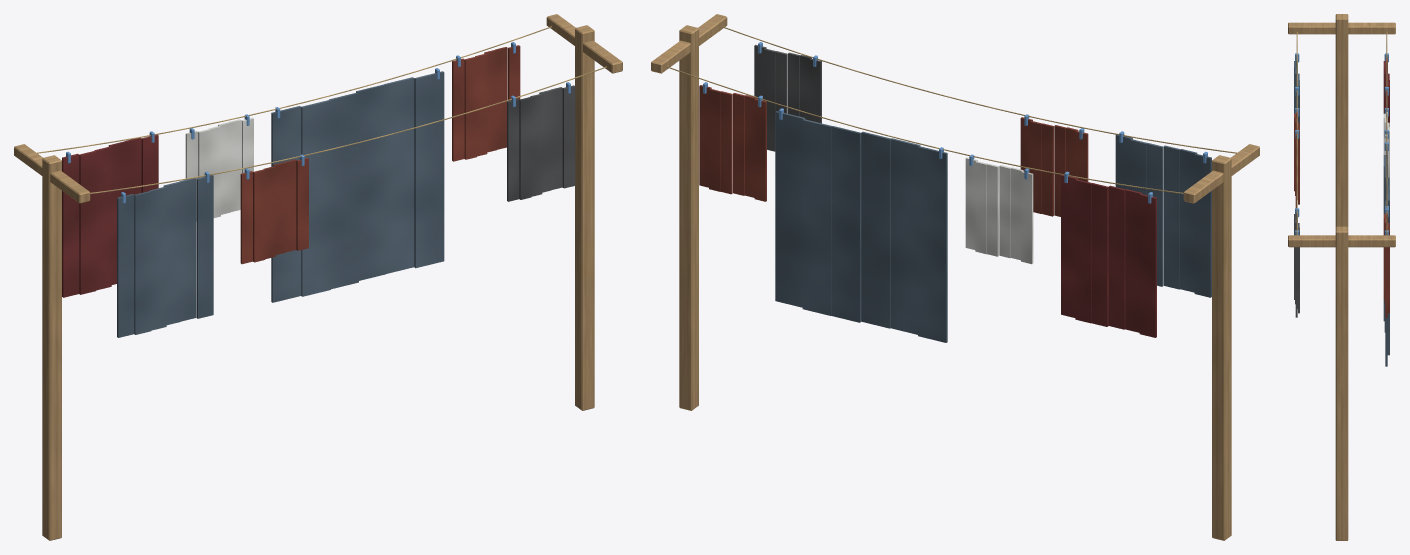
Rendered from varal_roupas.glb.
3 renders of one model, left to right at view 1: azimuth 30°, elevation 25°; view 2: azimuth 150°, elevation 25°; view 3: azimuth 270°, elevation 25°, orthographic. The views are drawn at different scales.
Visible parts, largest first — view 1: varal_roupas_tecido_sofa, varal_roupas_madeira_crua, varal_roupas_tecido_cadeira, varal_roupas_cobertor, varal_roupas_cobertor_cinza, varal_roupas_lencol, varal_roupas_corda, varal_roupas_plastico_azul; view 2: varal_roupas_tecido_sofa, varal_roupas_madeira_crua, varal_roupas_cobertor, varal_roupas_tecido_cadeira, varal_roupas_lencol, varal_roupas_cobertor_cinza, varal_roupas_corda, varal_roupas_plastico_azul; view 3: varal_roupas_madeira_crua, varal_roupas_tecido_cadeira, varal_roupas_tecido_sofa, varal_roupas_corda, varal_roupas_cobertor_cinza, varal_roupas_plastico_azul, varal_roupas_cobertor, varal_roupas_lencol.
Part boxes in pixels (x1,y1,x2,y2): varal_roupas_tecido_sofa: (117, 71, 444, 337); varal_roupas_madeira_crua: (14, 14, 622, 540); varal_roupas_tecido_cadeira: (240, 45, 520, 264); varal_roupas_cobertor: (62, 134, 158, 297); varal_roupas_cobertor_cinza: (507, 85, 575, 201); varal_roupas_lencol: (185, 117, 253, 221); varal_roupas_corda: (37, 26, 606, 193); varal_roupas_plastico_azul: (66, 42, 570, 203); varal_roupas_tecido_sofa: (775, 111, 1211, 342); varal_roupas_madeira_crua: (651, 14, 1259, 540); varal_roupas_cobertor: (1061, 175, 1156, 337); varal_roupas_tecido_cadeira: (699, 85, 1088, 216); varal_roupas_lencol: (965, 157, 1033, 264); varal_roupas_cobertor_cinza: (754, 44, 821, 151); varal_roupas_corda: (667, 26, 1236, 193); varal_roupas_plastico_azul: (703, 42, 1207, 203); varal_roupas_madeira_crua: (1288, 14, 1395, 540); varal_roupas_tecido_cadeira: (1294, 112, 1389, 317); varal_roupas_tecido_sofa: (1294, 57, 1389, 366); varal_roupas_corda: (1296, 32, 1387, 235); varal_roupas_cobertor_cinza: (1294, 212, 1299, 317); varal_roupas_plastico_azul: (1295, 53, 1388, 235); varal_roupas_cobertor: (1383, 57, 1389, 126); varal_roupas_lencol: (1383, 112, 1389, 188).
Bounding box in the file's own units: 2.87 × 1.9 × 0.6.
Materials: 8 (7 with a texture image).
